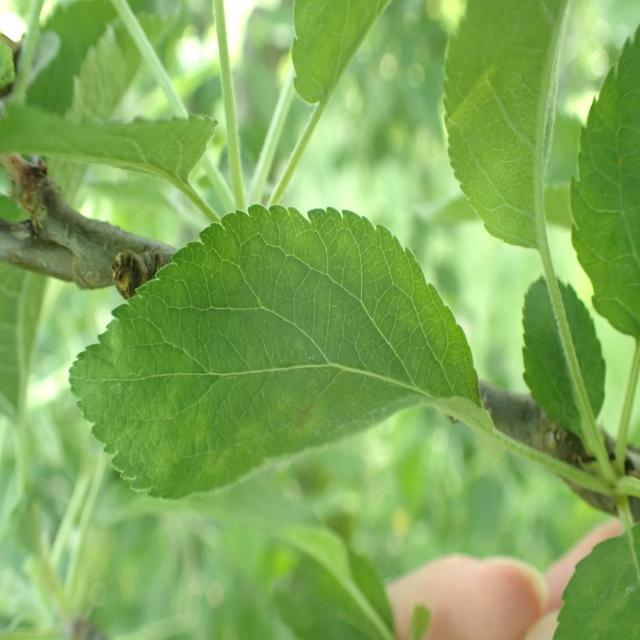scab: (78, 213, 470, 472)
